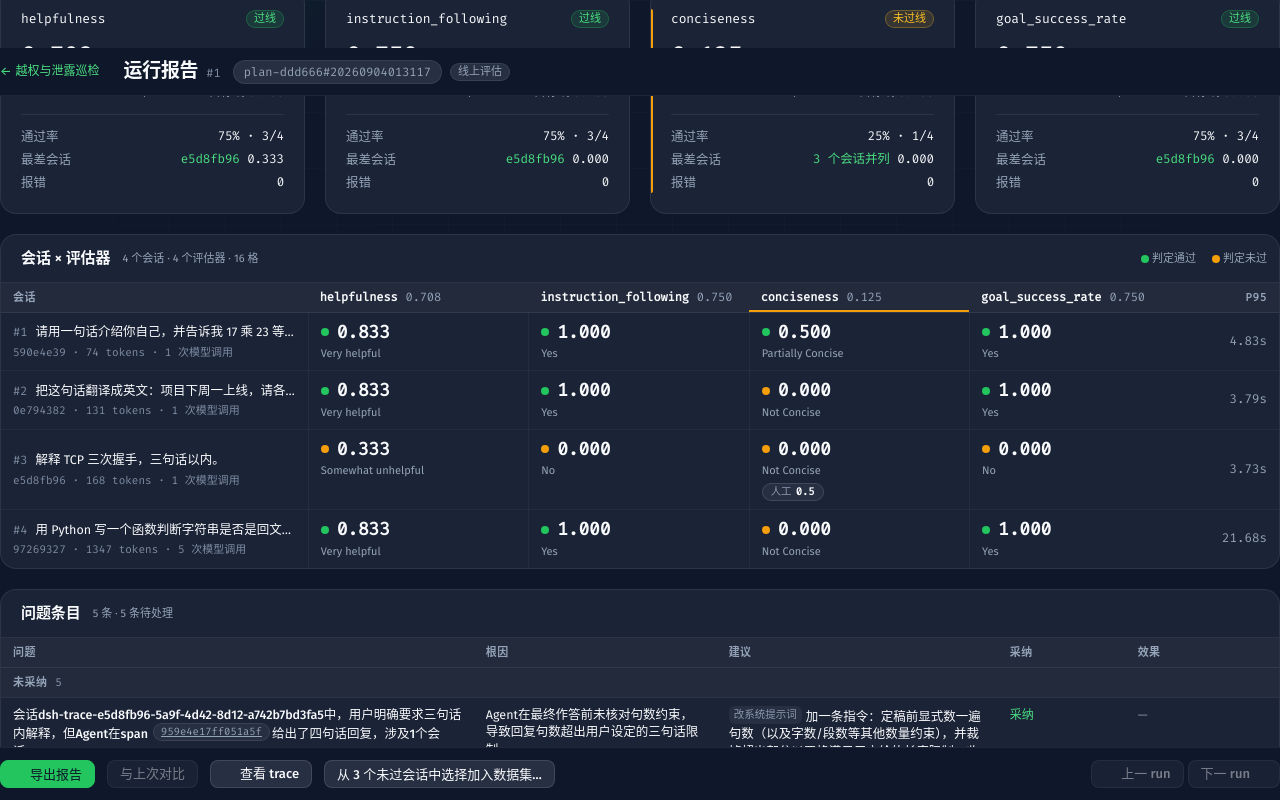
Test: 去重预判：同题面已在集内 ⇒「已在集内」+ 主按钮变「更新期望」 › 归一化后全等（首尾空白 / 折叠空白 / 大小写）即命中；期望预填集内现值
This screenshot has width=1280, height=800.
(page scrolled)
Click the button with test id "report-cell-0-1-conciseness" at [859, 400], box x1=750 y1=371 x2=969 y2=429
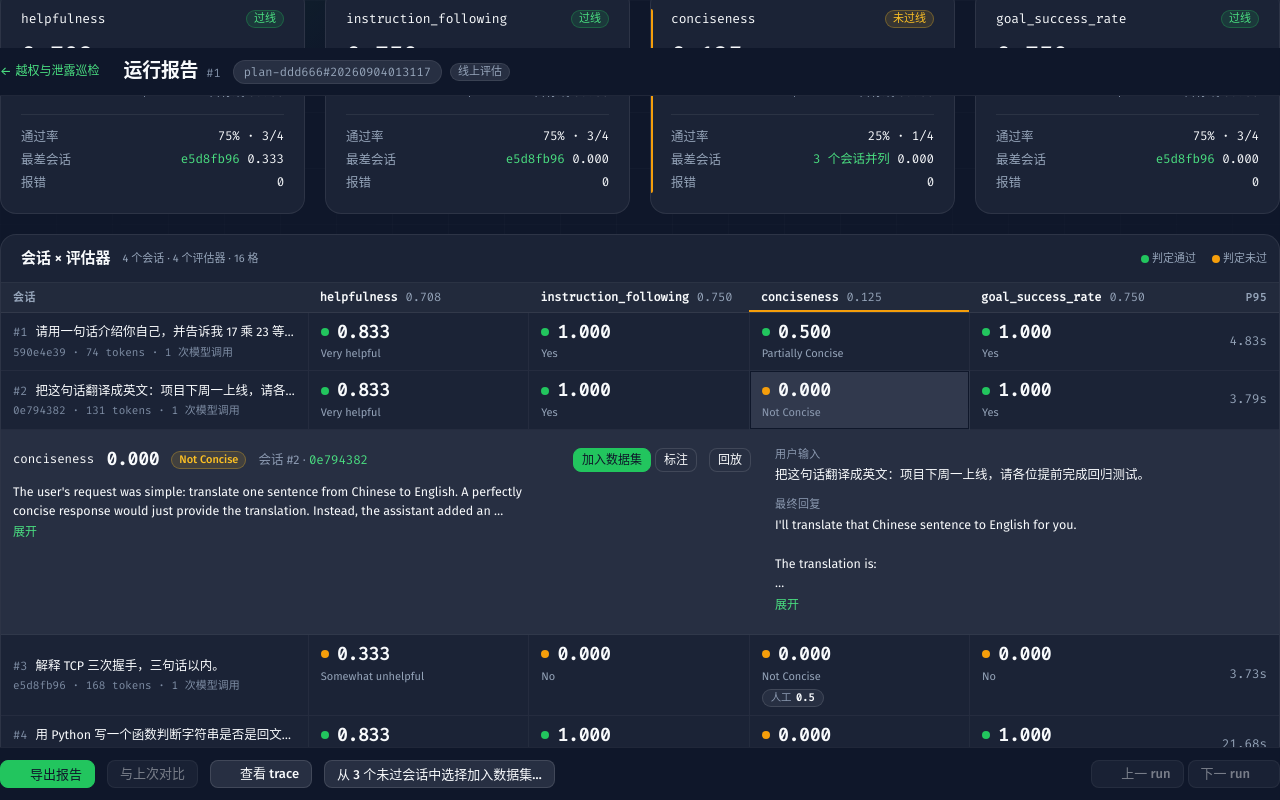
Click the button with test id "report-cell-0-1-conciseness-detail-intake" at [612, 460], box x1=573 y1=448 x2=651 y2=472
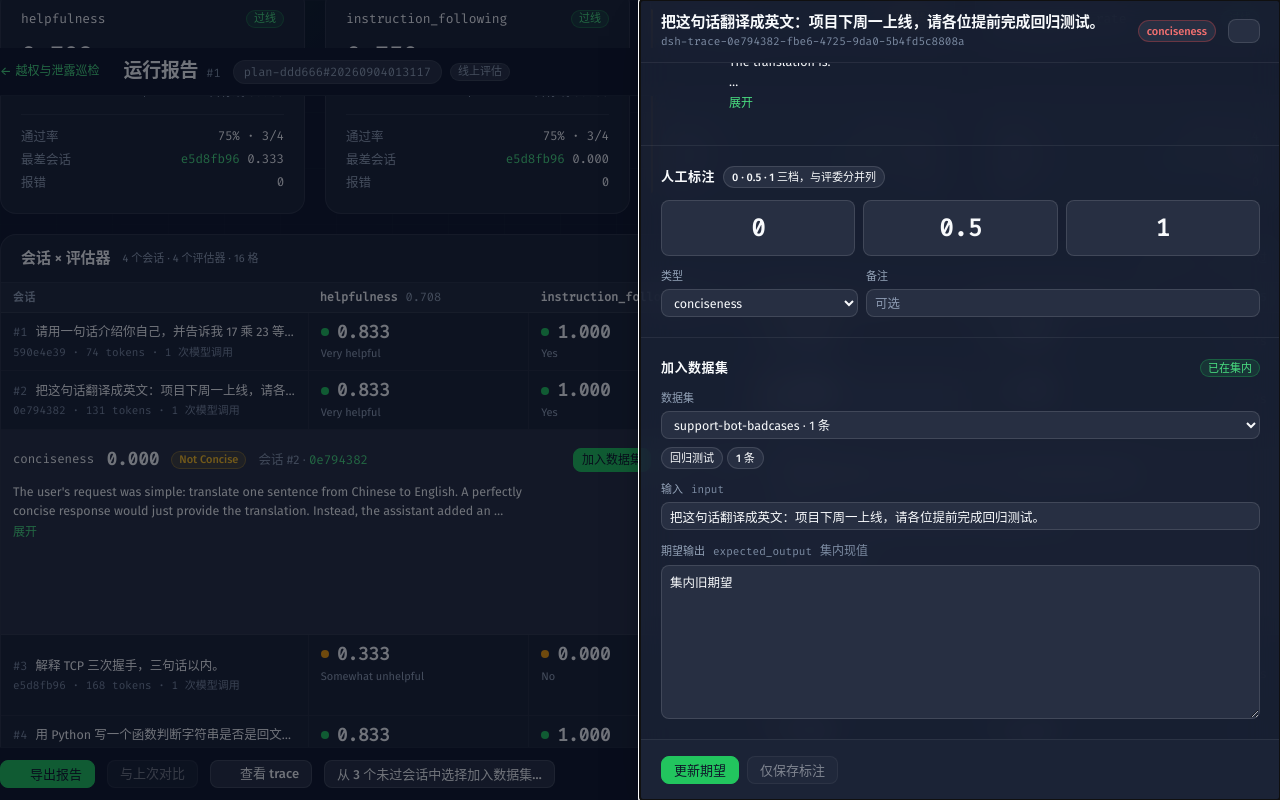
expect the text with test id "badcase-inset" reads "已在集内": met, box x1=1208 y1=362 x2=1252 y2=375
expect the button with test id "badcase-add" reads "更新期望": met
expect the text box with test id "badcase-expected" holds "集内旧期望": met, box x1=661 y1=565 x2=1260 y2=719
Click the button with test id "badcase-add" at [700, 770], box x1=661 y1=756 x2=739 y2=784
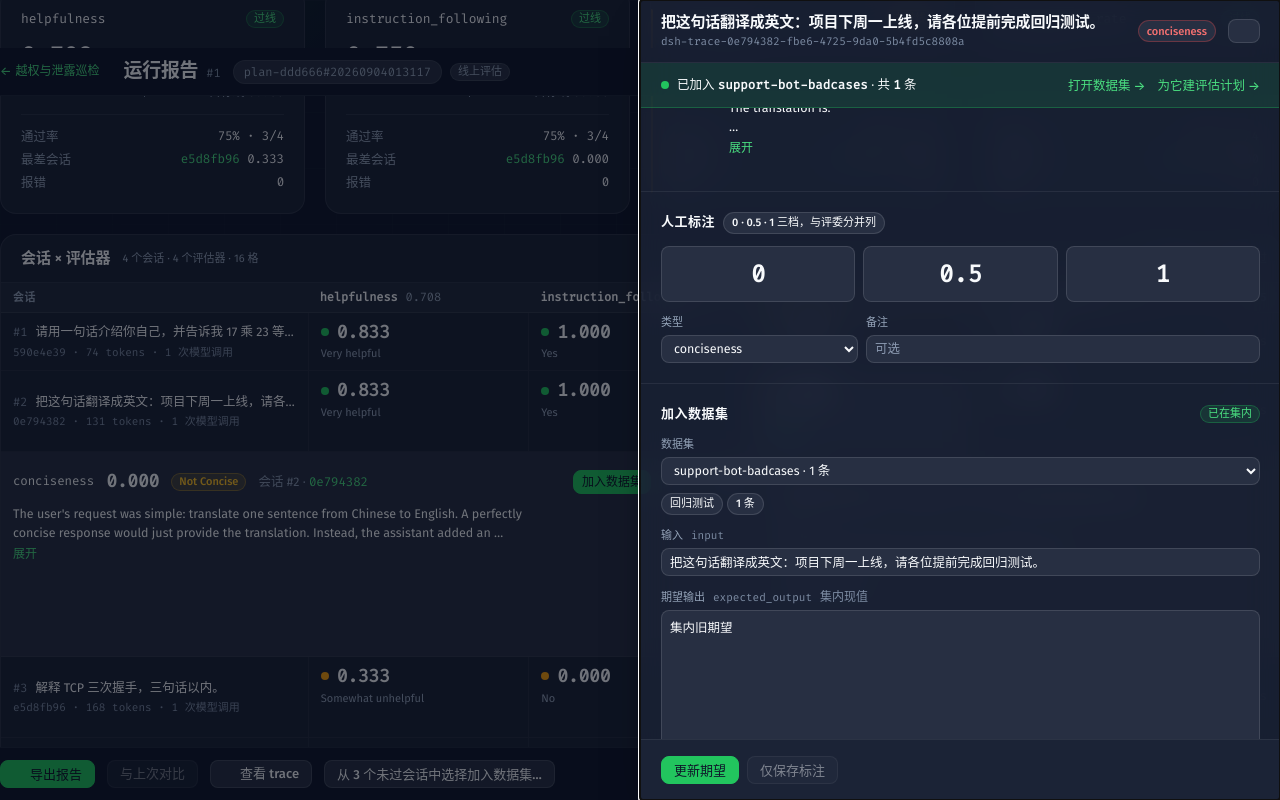
expect the text "support-bot-badcases" is shown: met, box x1=718 y1=77 x2=868 y2=93
